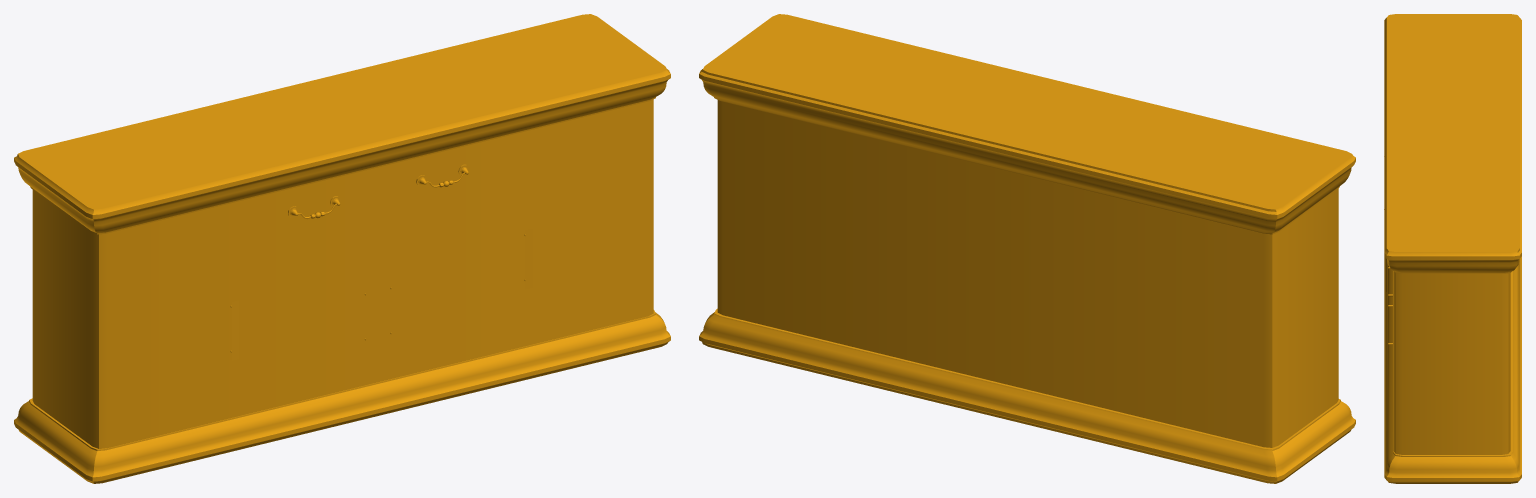
The model's file is COMODE.glb.
The picture shows the model from 3 angles, left to right: view 1: azimuth 30°, elevation 25°; view 2: azimuth 150°, elevation 25°; view 3: azimuth 270°, elevation 25°; orthographic projection. The views are drawn at different scales.
Visible parts, largest first — view 1: Object001; view 2: Object001; view 3: Object001.
Boxes of the visible parts, <box> form: Object001: <box>14,14,670,483</box>; Object001: <box>699,14,1355,483</box>; Object001: <box>1384,14,1521,483</box>.
Size of the model in its own units: 1.79 by 0.8418 by 0.434.
